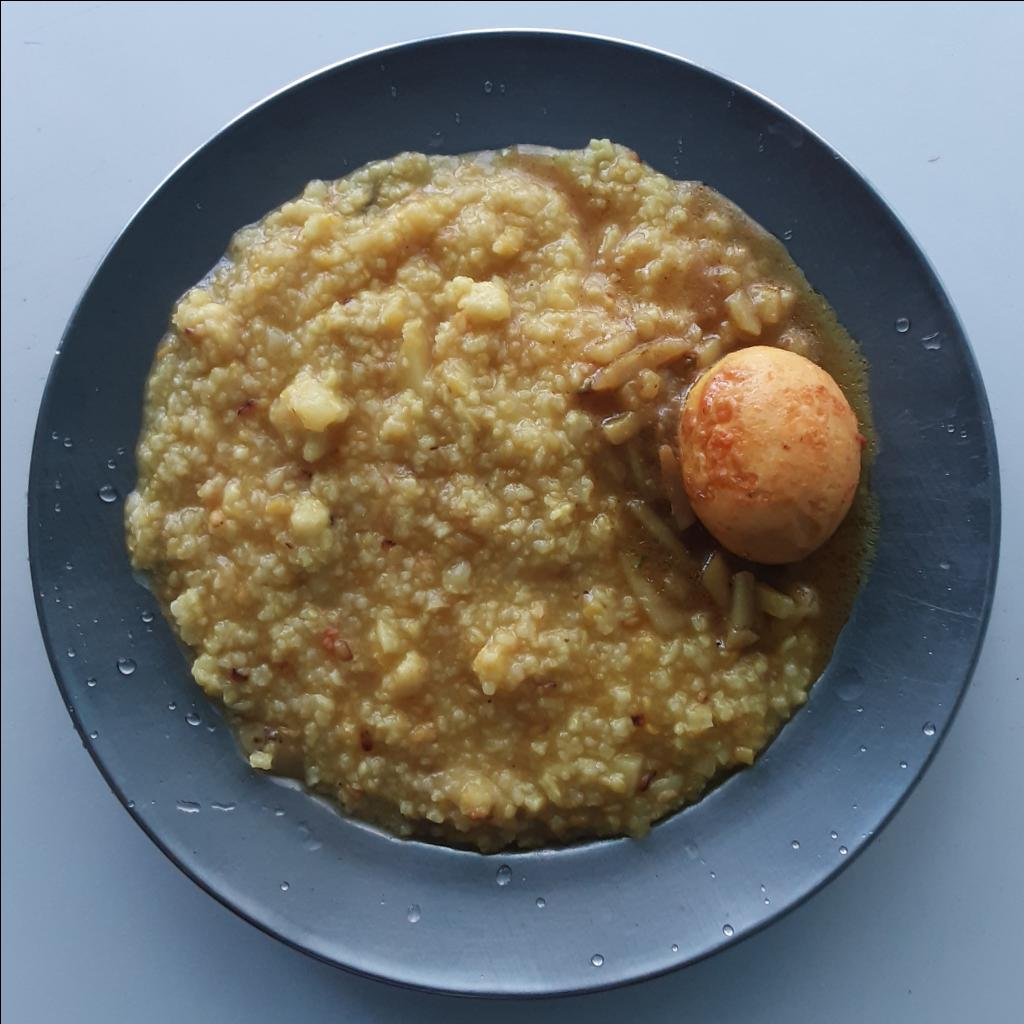egg-boiled: (673, 335, 859, 563)
khichuri: (119, 134, 856, 858)
